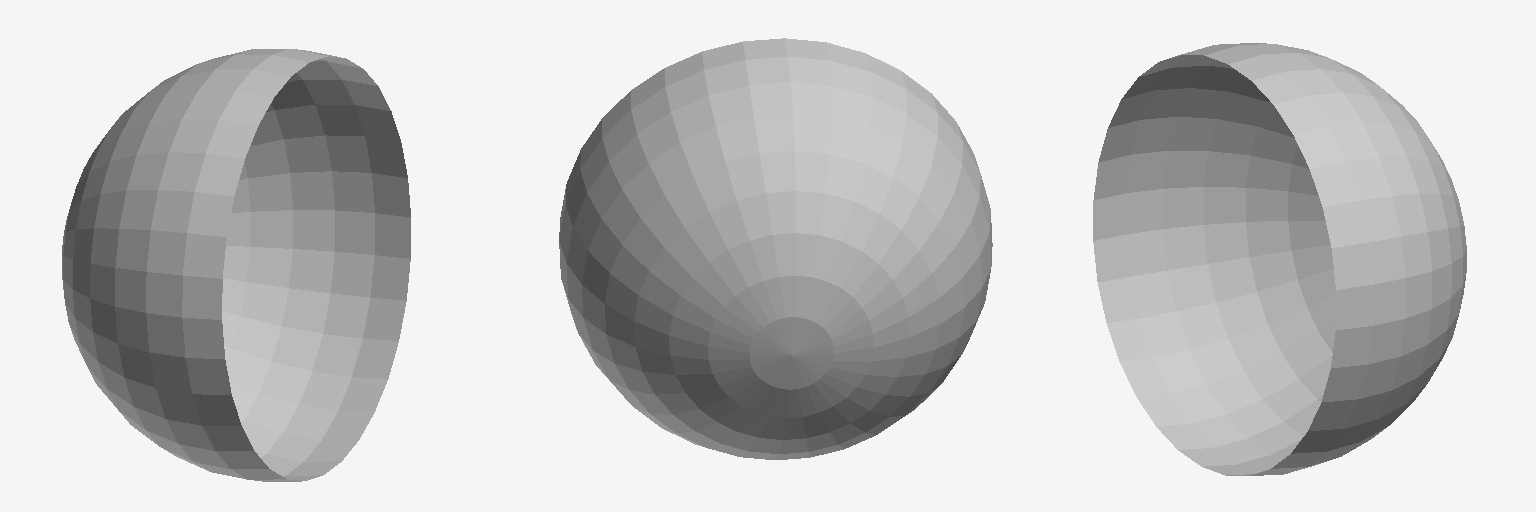
File: helmet2.obj
The picture shows the model from 3 angles: view 1: azimuth 30°, elevation 25°; view 2: azimuth 150°, elevation 25°; view 3: azimuth 270°, elevation 25°; orthographic projection.
Visible parts, largest first — view 1: Glass; view 2: Glass; view 3: Glass.
Boxes of the visible parts, box(x1,y1,x2,y2) form: Glass: box(62, 49, 410, 481); Glass: box(559, 38, 992, 459); Glass: box(1093, 43, 1466, 475).
Size of the model in its own units: 0.2531 by 0.2627 by 0.2266.